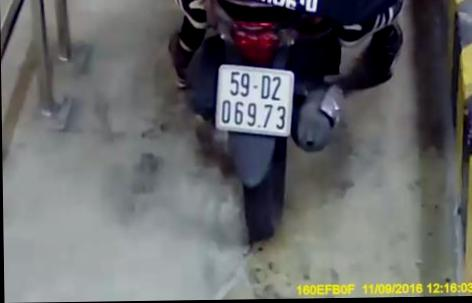License_Plate: (207, 59, 301, 147)
